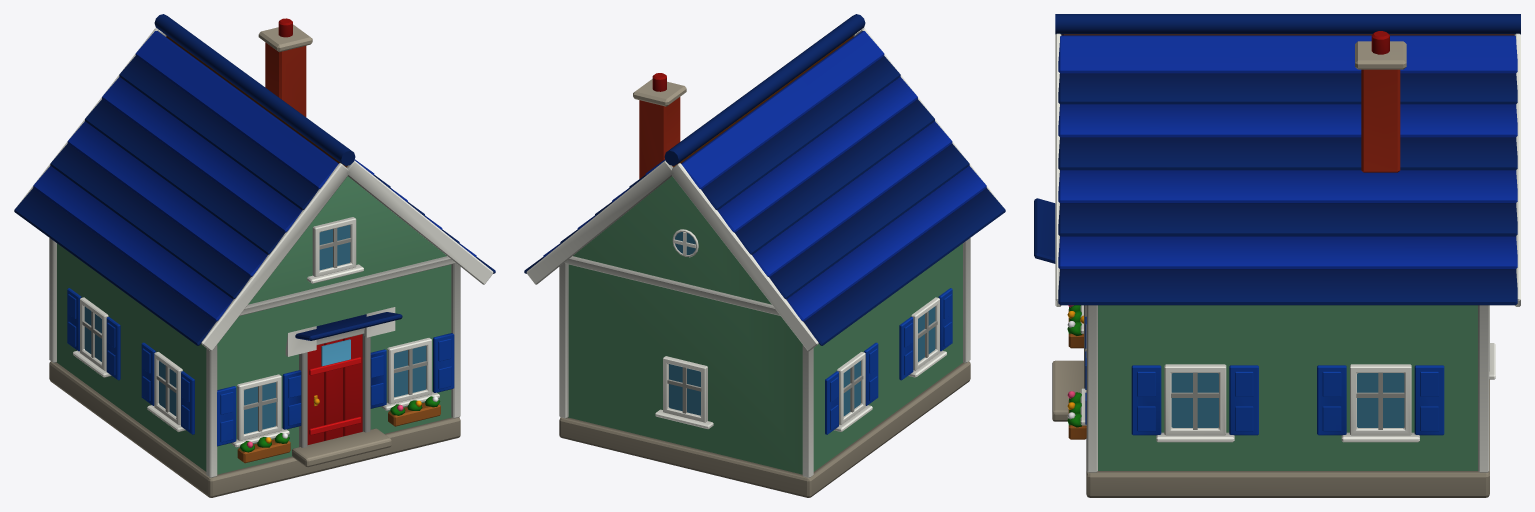
File: House_A.fbx
3 views of the same model, side by side, from view 1: azimuth 30°, elevation 25°; view 2: azimuth 150°, elevation 25°; view 3: azimuth 270°, elevation 25° (orthographic). The views are drawn at different scales.
Parts seen in each view (by area): view 1: House_A; view 2: House_A; view 3: House_A.
Part boxes in pixels (bbox=[...]): House_A: bbox=[14, 14, 495, 497]; House_A: bbox=[524, 14, 1005, 497]; House_A: bbox=[1034, 14, 1520, 497].
Bounding box in the file's own units: 4.18 × 4.61 × 4.73.
